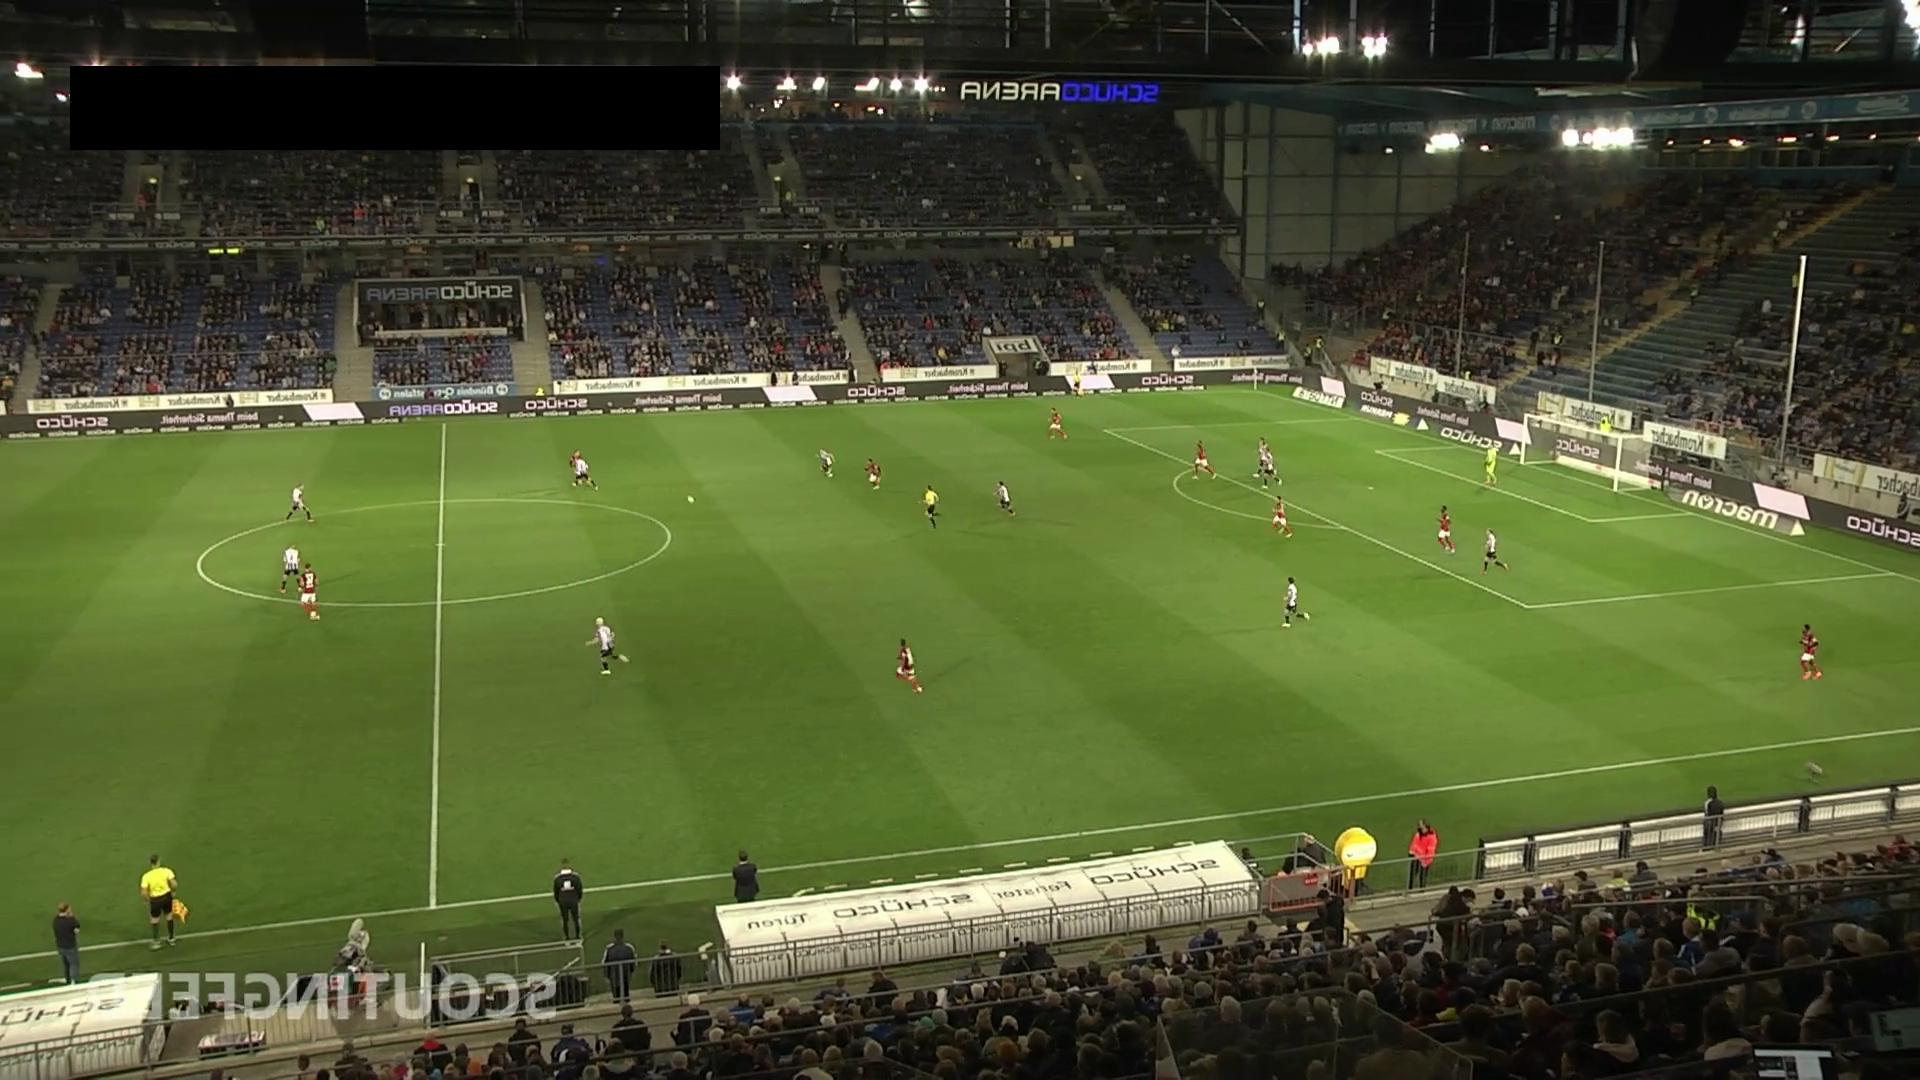ball: (686, 494, 696, 505)
goalkeeper: (1482, 445, 1500, 485)
player: (584, 616, 627, 676), (895, 638, 923, 694), (1281, 576, 1310, 629), (1798, 623, 1823, 680), (1480, 528, 1510, 575), (298, 562, 320, 621), (284, 481, 314, 522), (280, 543, 302, 595), (1191, 439, 1217, 481), (1271, 494, 1293, 537), (1262, 447, 1283, 492), (1437, 505, 1456, 554), (1252, 435, 1271, 482), (573, 455, 598, 490), (922, 483, 940, 529), (1047, 408, 1069, 440), (995, 480, 1015, 515), (570, 448, 587, 484), (865, 457, 882, 489), (817, 449, 835, 477)
referee: (139, 853, 188, 952), (1071, 366, 1084, 400)
